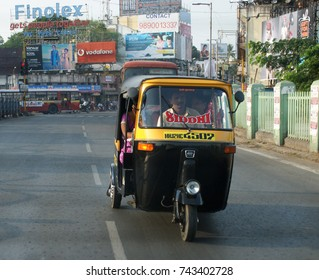threewheel: (108, 74, 242, 242)
